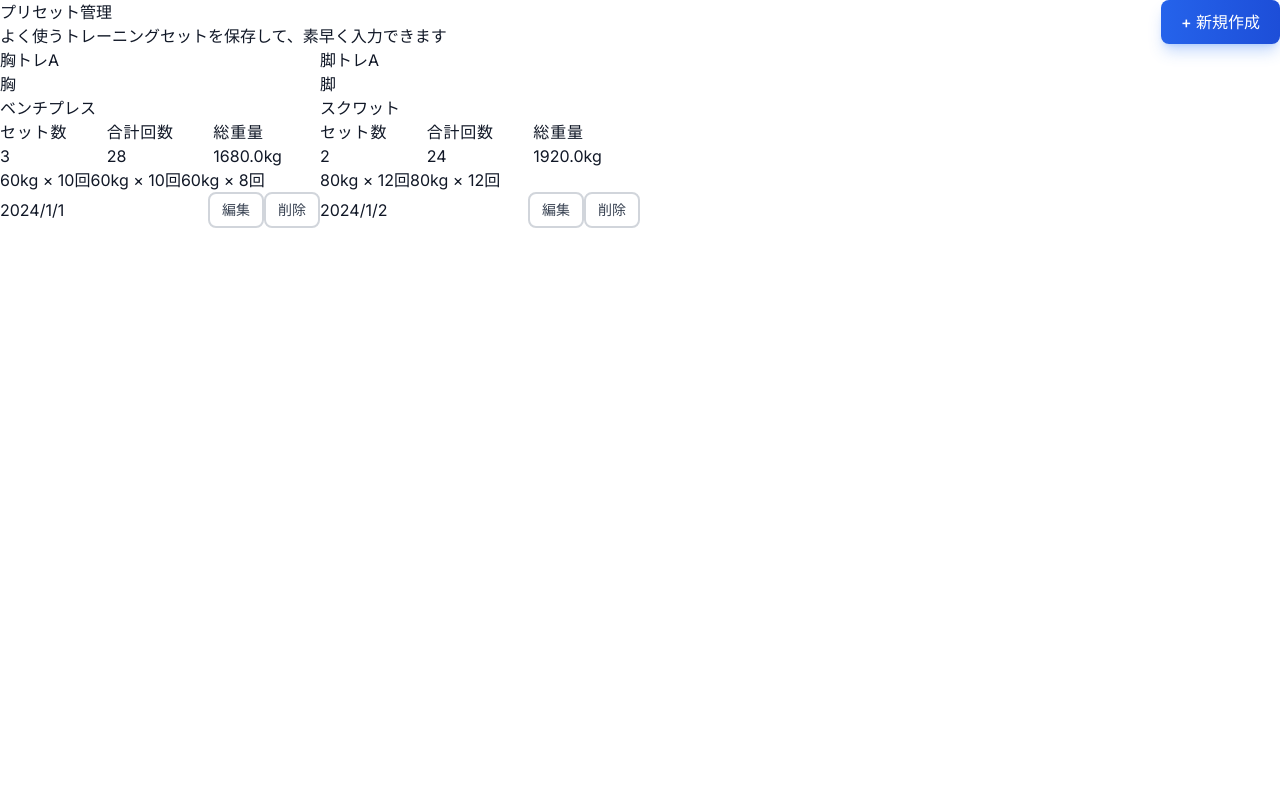
Scenario: PresetManager › プリセット編集 › 編集ボタンをクリックすると編集モーダルが開く
Expected: the heading "胸トレA" is shown, [0,48,59,72]
Click the button "編集" next to "2024/1/1". click: (236, 210)
box: [208,192,264,228]
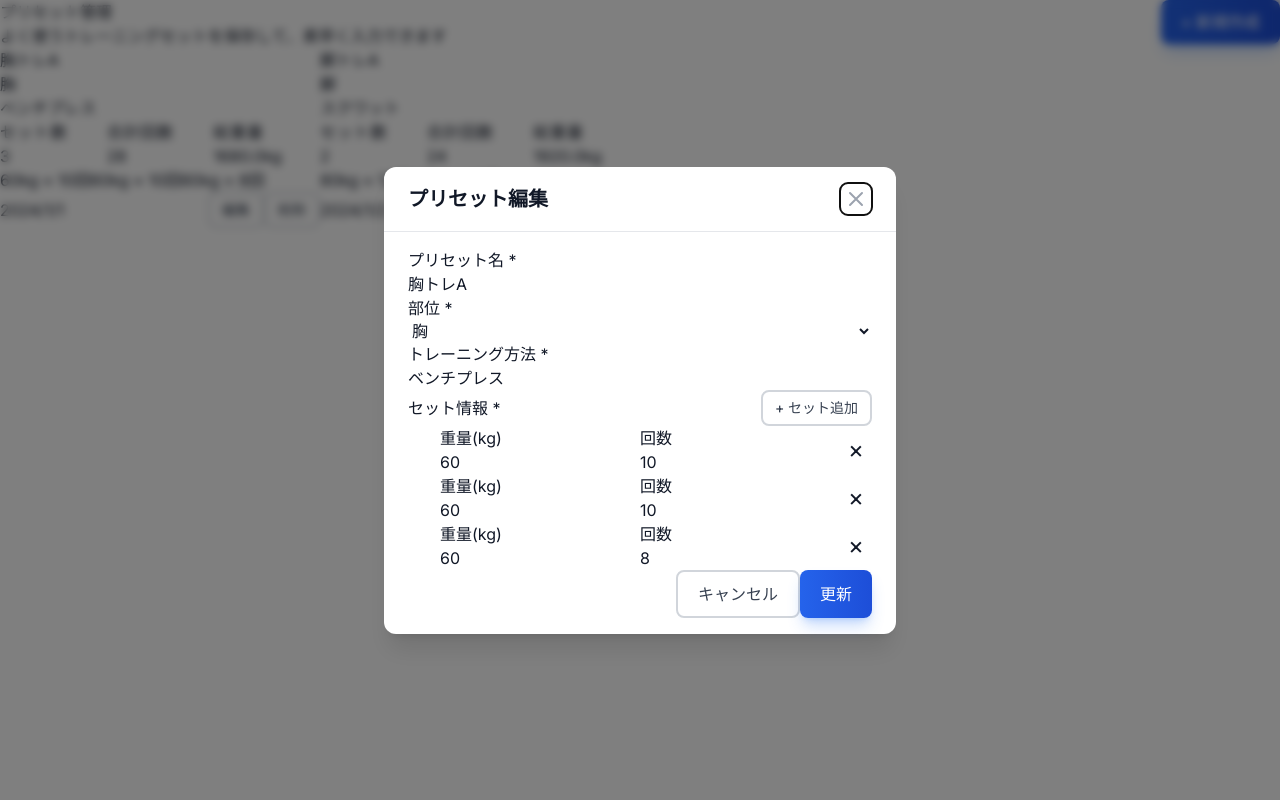
Expected: the heading "プリセット編集" is shown, [408,184,548,212]
Expected: the field showing "胸トレA" is shown, [408,272,872,296]
